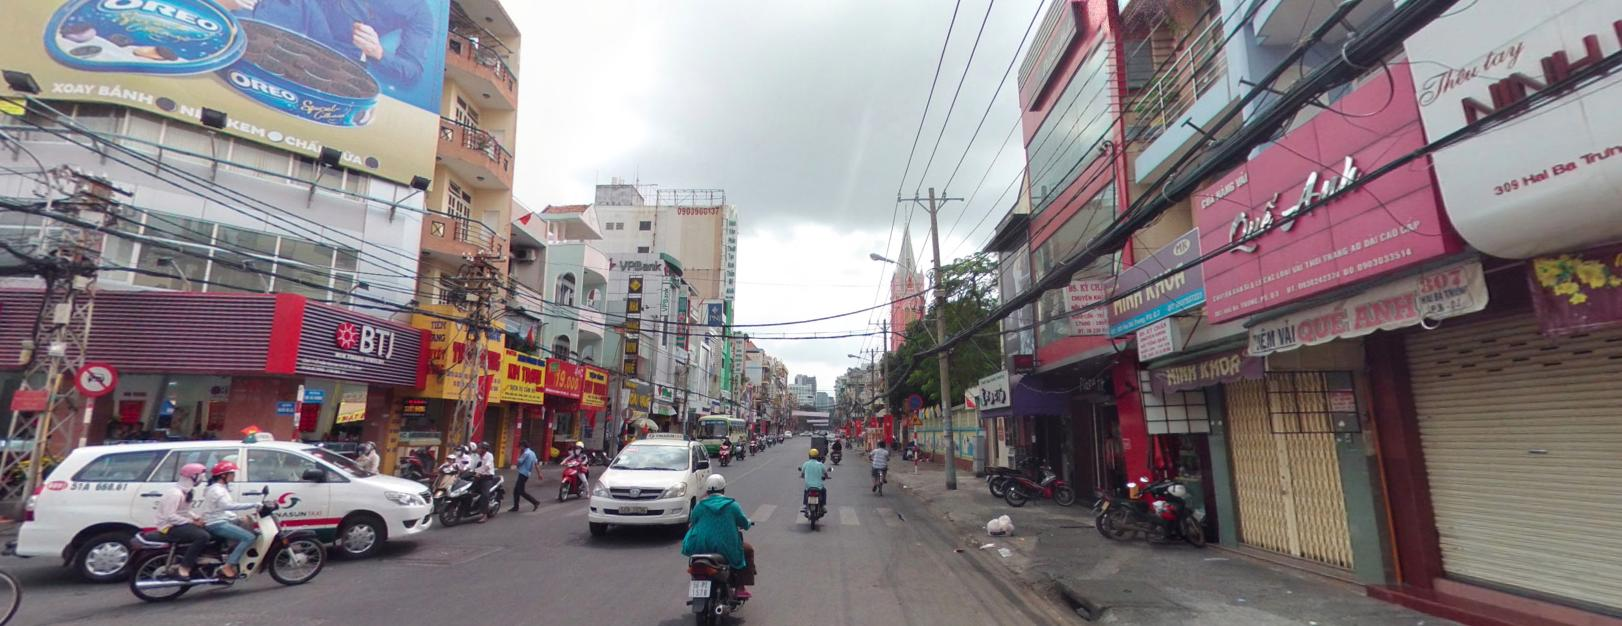Cam con lai: (76, 361, 116, 393)
Cam dung va do: (907, 393, 922, 408)
Nguy hiem: (907, 410, 922, 423)
